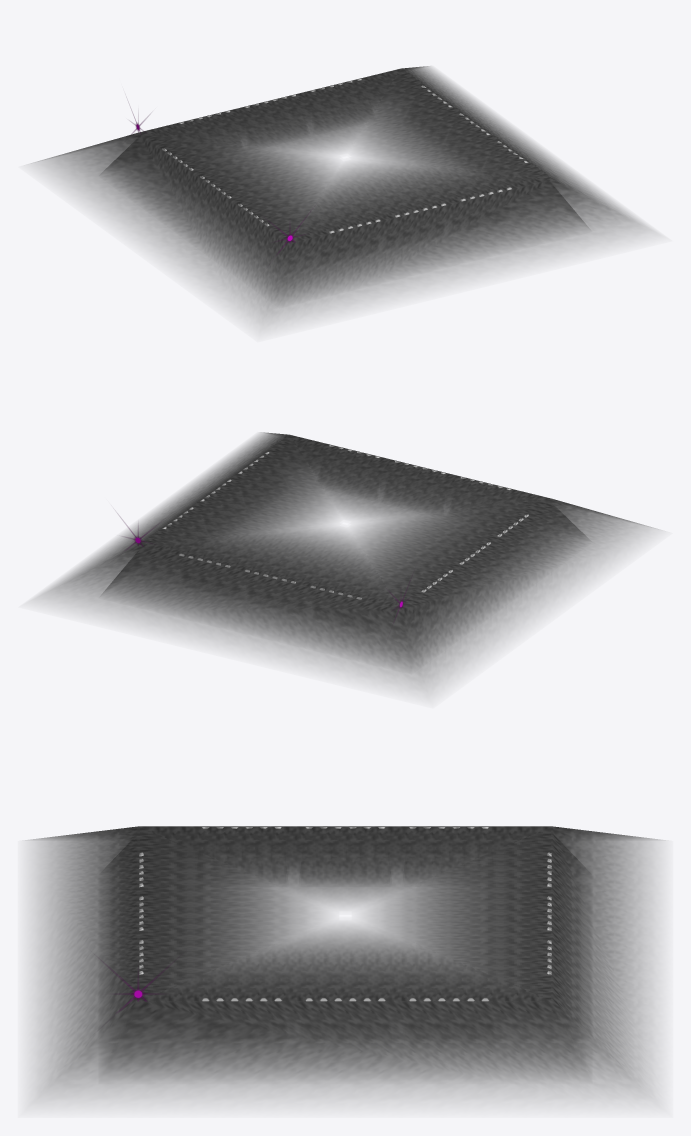
File: box_ring__box_light.glb
The picture shows the model from 3 angles, top to bottom: view 1: azimuth 30°, elevation 25°; view 2: azimuth 150°, elevation 25°; view 3: azimuth 270°, elevation 25°; orthographic projection. The views are drawn at different scales.
Parts seen in each view (by area): view 1: polygon78, polygon77, polygon76; view 2: polygon78, polygon77, polygon76; view 3: polygon78, polygon77, polygon76.
Part boxes in pixels (<box>): polygon78: <box>31,66,657,329</box>; polygon77: <box>106,82,586,289</box>; polygon76: <box>164,78,528,233</box>; polygon78: <box>33,432,658,695</box>; polygon77: <box>105,448,585,655</box>; polygon76: <box>162,445,526,599</box>; polygon78: <box>25,826,665,1103</box>; polygon77: <box>110,840,580,1061</box>; polygon76: <box>139,827,551,1000</box>.
Size of the model in its own units: 160 by 34.5 by 160.
Materials: 3 (3 with a texture image).
